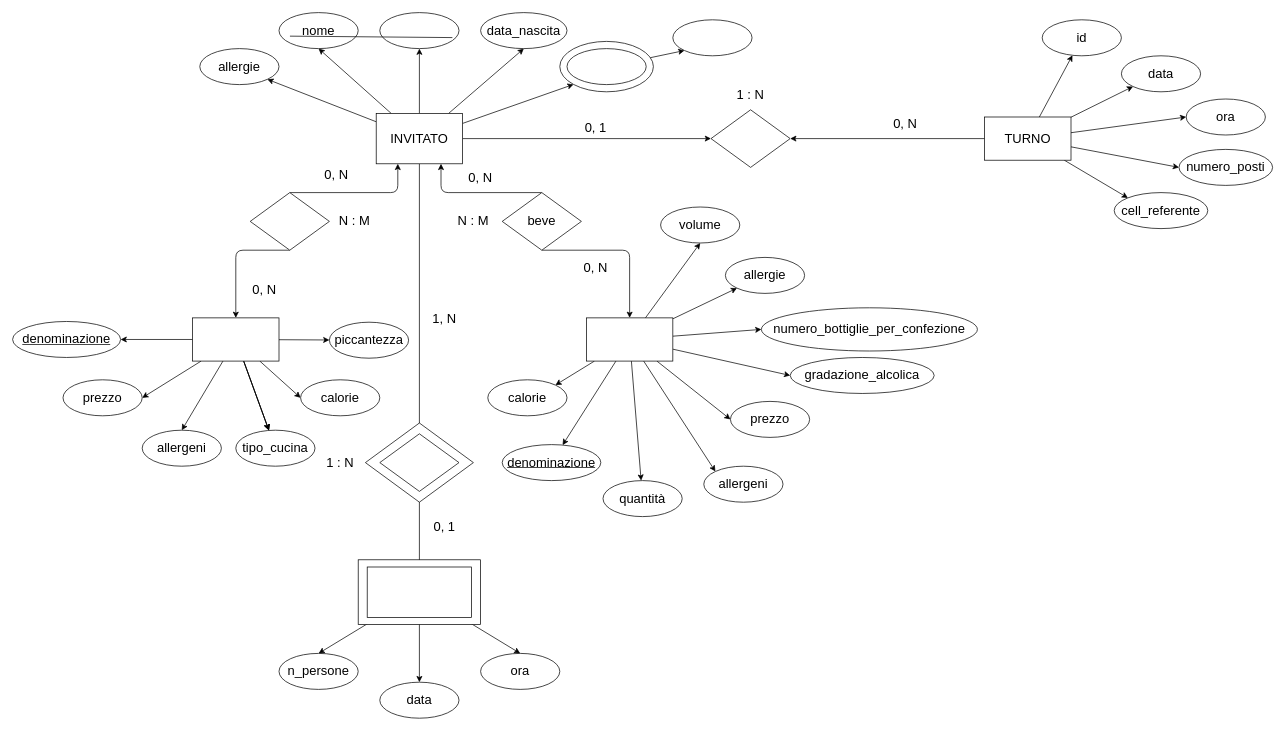
Image size: 1285x731. Some labels were removed from this diagram. The centre of each missing label's shape, as x and y in pixels:
BEVANDE: [629,339]
CIBO: [235,339]
cognome: [419,30]
effettua: [419,462]
mangia: [289,221]
partecipa: [750,138]
plus_1: [712,37]
presenza: [606,66]
SPOSTAMENTO: [419,591]
